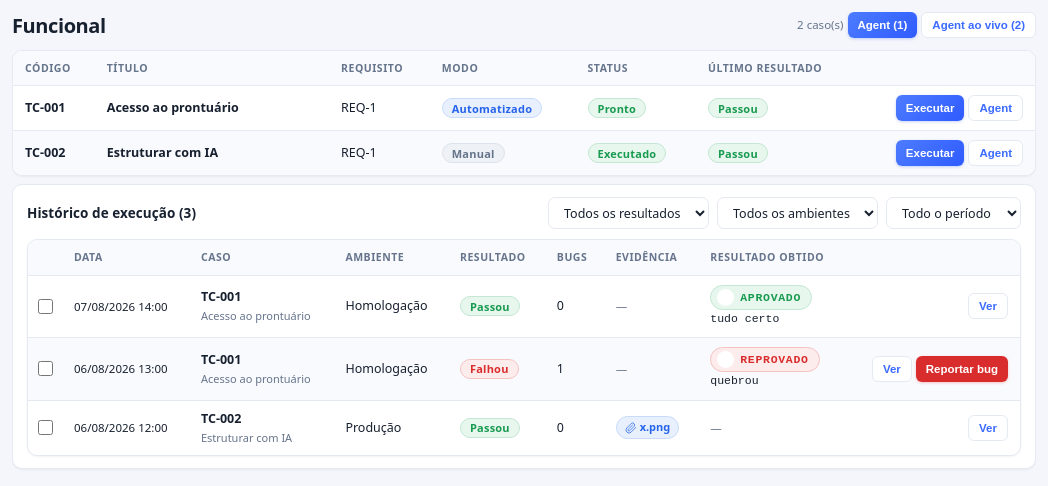
Scenario: Execution — histórico com filtros e paginação › filtra por ambiente
Expected: the heading "Histórico de execução (3)" is shown, [27,203,196,224]
Select "Produção" in the dropdown named "Filtrar por ambiente". click: (798, 213)
box: [717,197,878,229]
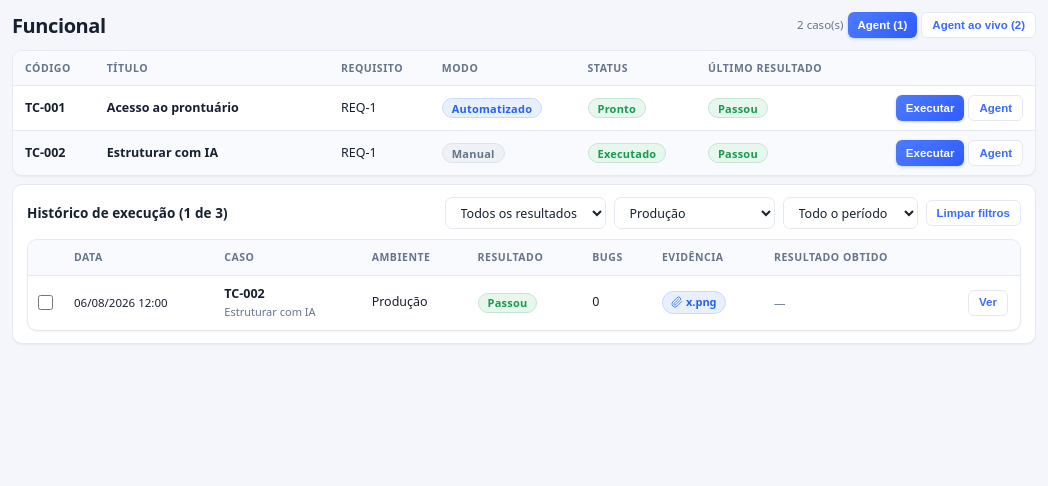
Expected: the heading "Histórico de execução (1 de 3)" is shown, [27,203,228,224]
Expected: the text "quebrou" is gone
